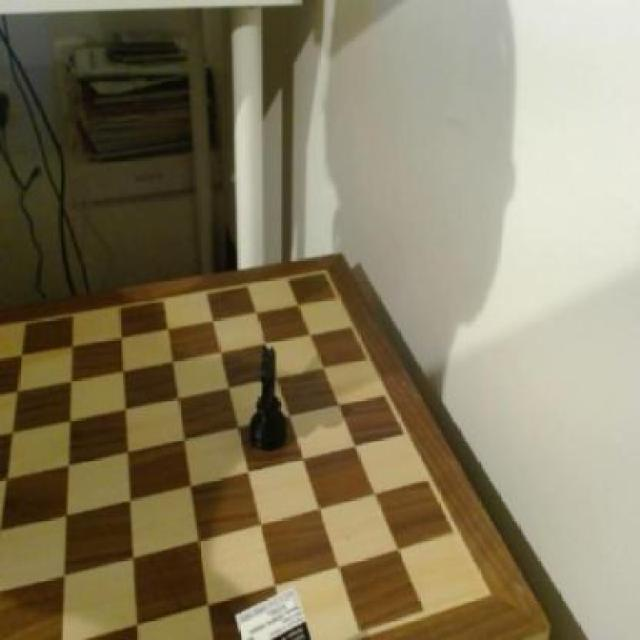black-king: (246, 337, 293, 460)
